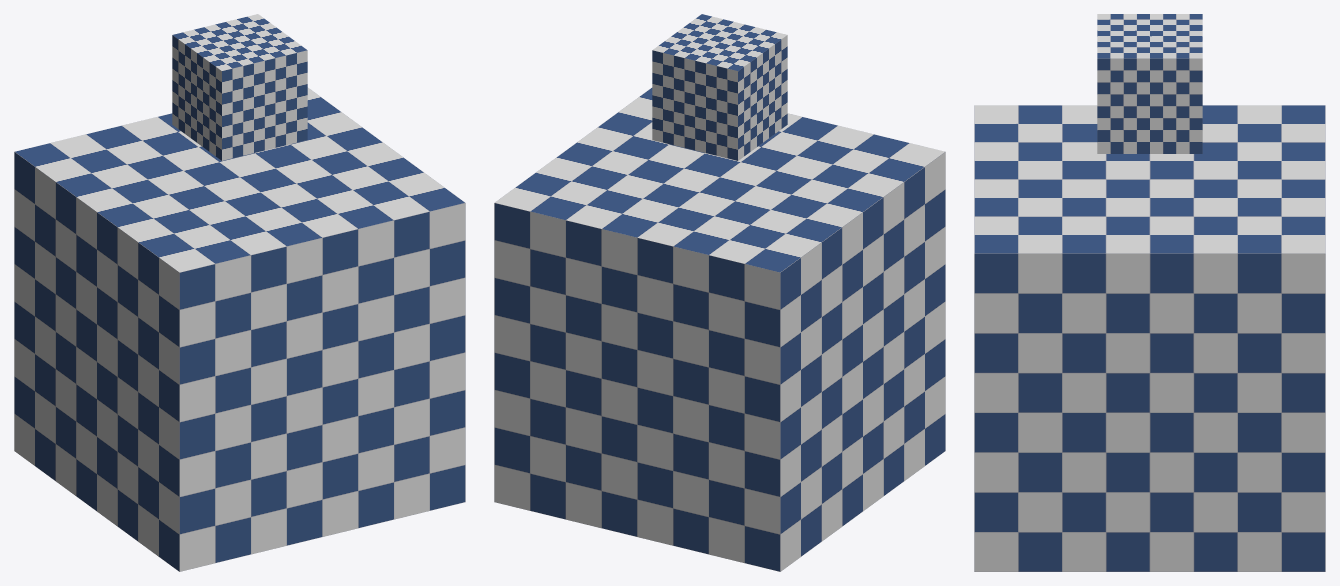
3 views of the same model, side by side, from view 1: azimuth 30°, elevation 25°; view 2: azimuth 150°, elevation 25°; view 3: azimuth 270°, elevation 25° (orthographic). The views are drawn at different scales.
Visible parts, largest first — view 1: ImportedCube, ImportedChild; view 2: ImportedCube, ImportedChild; view 3: ImportedCube, ImportedChild.
Part boxes in pixels (<box>): ImportedCube: <box>14,87,465,571</box>; ImportedChild: <box>172,14,307,160</box>; ImportedCube: <box>494,87,945,571</box>; ImportedChild: <box>652,14,787,160</box>; ImportedCube: <box>974,105,1325,571</box>; ImportedChild: <box>1097,14,1202,153</box>.
Size of the model in its own units: 1 by 1.45 by 1.
Materials: 1 (1 with a texture image).
